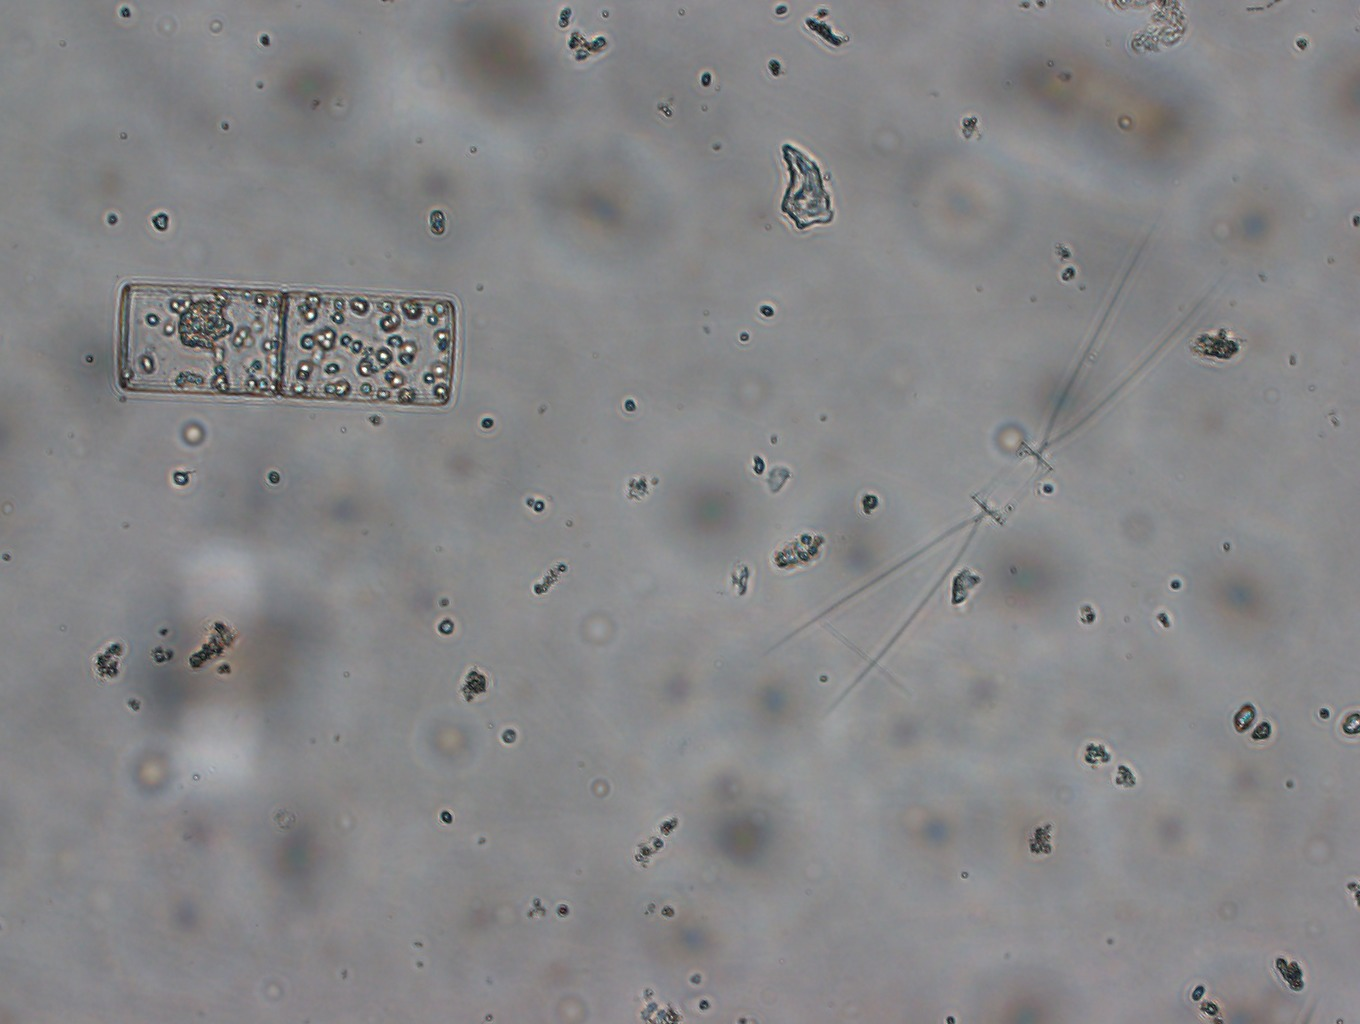chaetoceros: (748, 230, 1235, 722)
guinardia flaccida: (108, 278, 466, 419)
